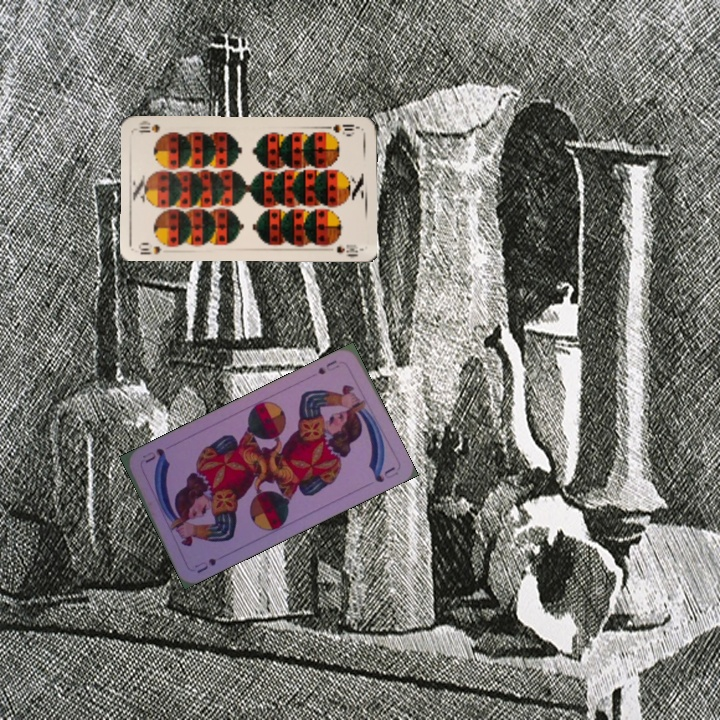S10: (134, 239, 174, 257), (322, 120, 363, 137)
SU: (191, 554, 219, 576), (314, 356, 342, 377)
